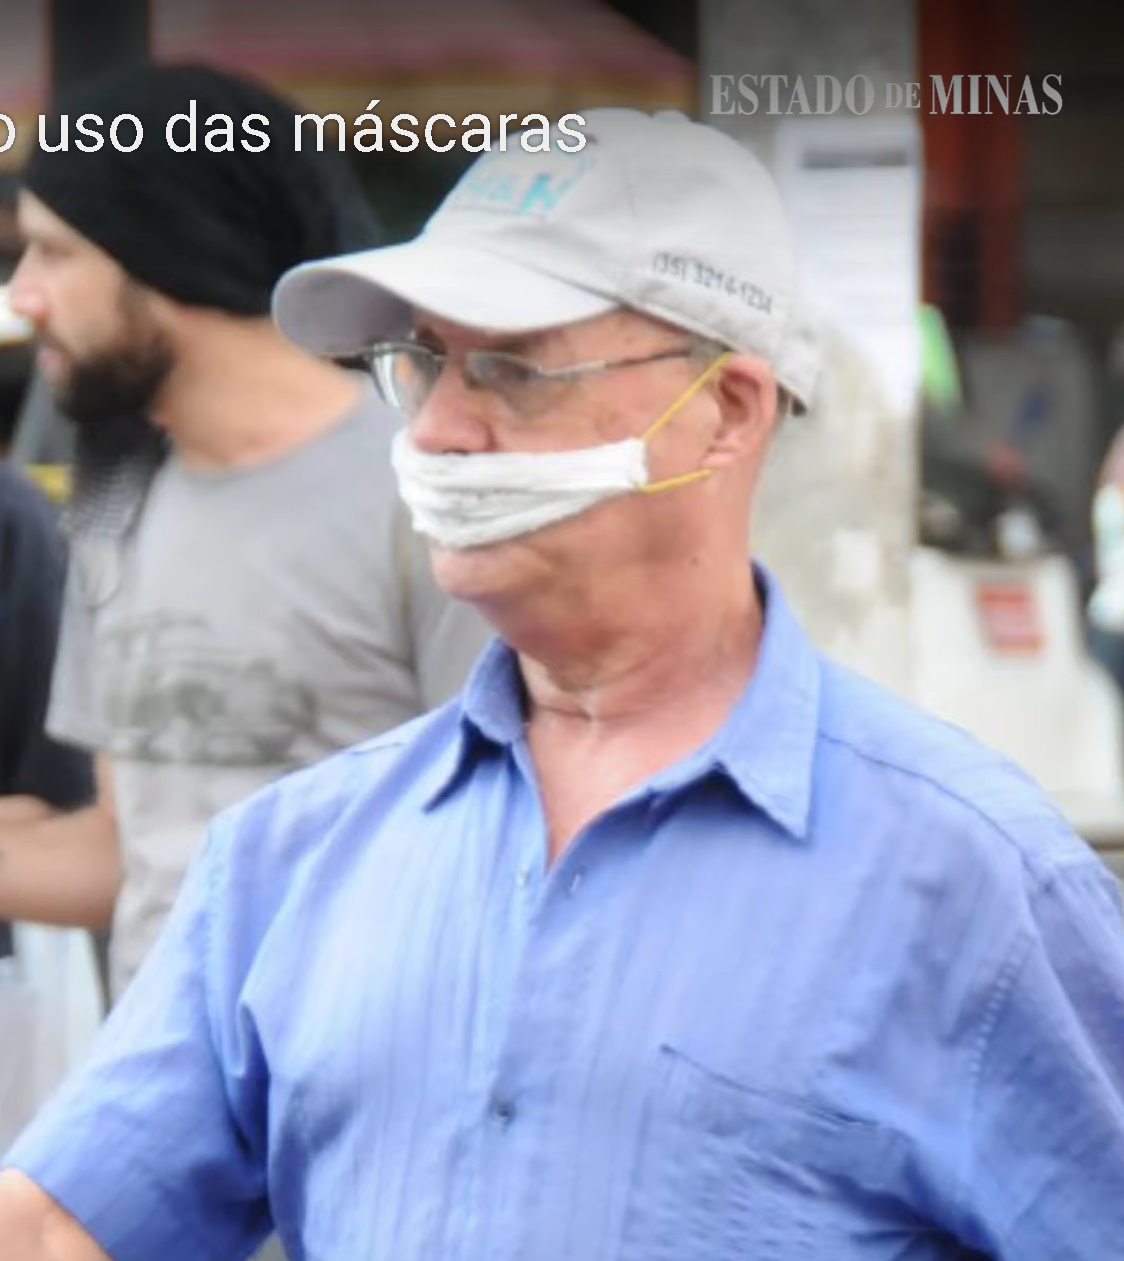mask_weared_incorrect: (358, 276, 808, 670)
